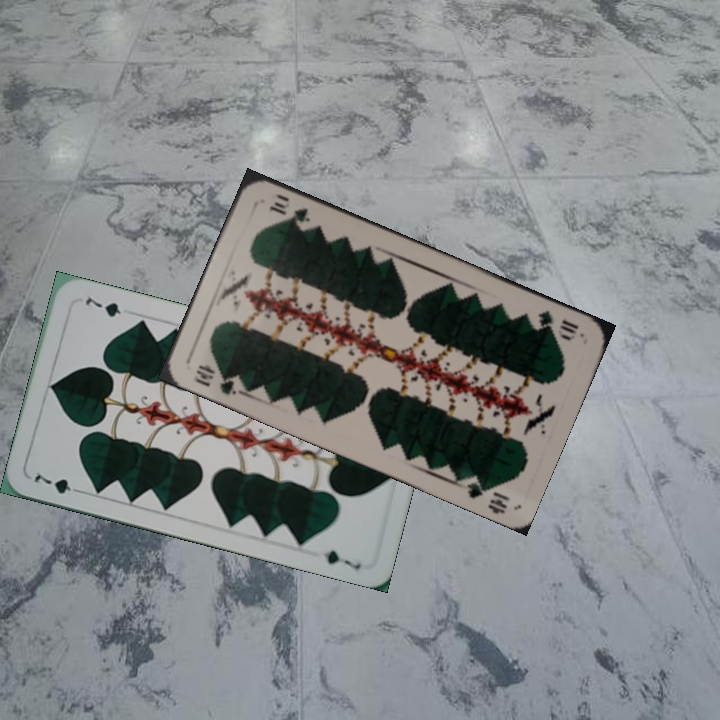G10: (191, 360, 246, 398), (533, 306, 581, 343)
G7: (30, 467, 86, 497)
